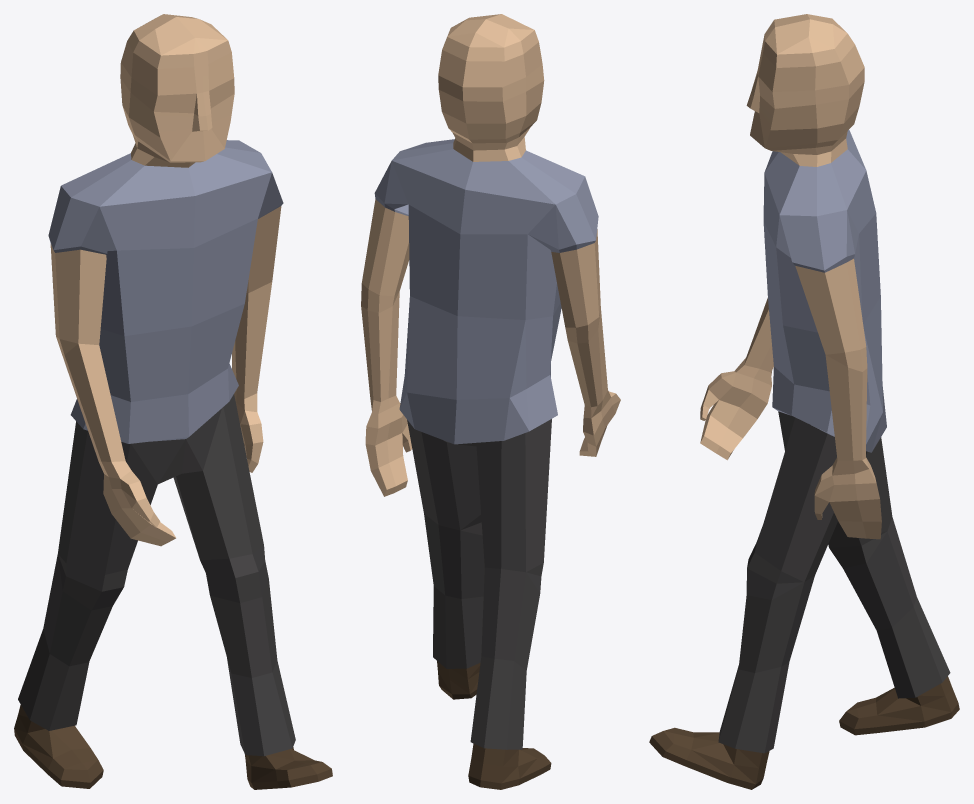
The model's file is quaternius_cc0-male-character-1162.glb.
The picture shows the model from 3 angles, left to right: view 1: azimuth 30°, elevation 25°; view 2: azimuth 150°, elevation 25°; view 3: azimuth 270°, elevation 25°; orthographic projection. The views are drawn at different scales.
Visible parts, largest first — view 1: Male_Walking; view 2: Male_Walking; view 3: Male_Walking.
Boxes of the visible parts, left/top/right/bottom form: Male_Walking: left=14, top=14, right=332, bottom=789; Male_Walking: left=361, top=14, right=620, bottom=789; Male_Walking: left=649, top=14, right=959, bottom=789.
Size of the model in its own units: 1.22 by 3.84 by 1.46.
